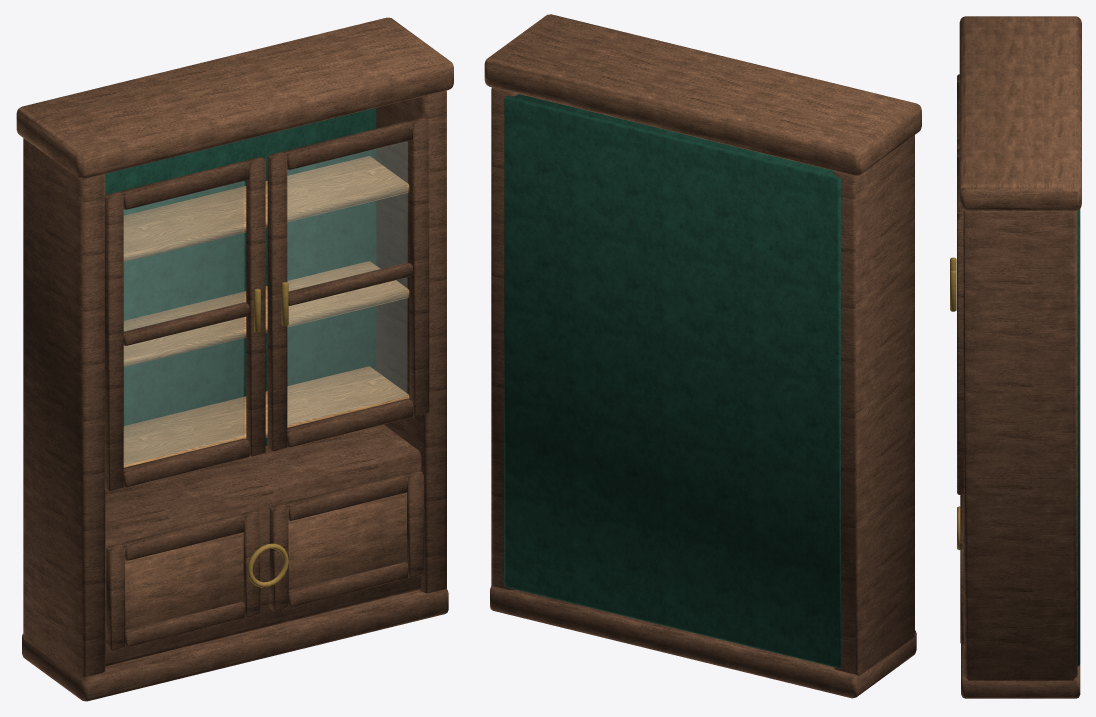
The model's file is asset_070_trophy_display_cabinet.glb.
3 views of the same model, side by side, from view 1: azimuth 30°, elevation 25°; view 2: azimuth 150°, elevation 25°; view 3: azimuth 270°, elevation 25° (orthographic). The views are drawn at different scales.
Visible parts, largest first — view 1: MESH_DisplayCabinetSideSet, MESH_DisplayCrown, MESH_DisplayBack, MESH_DisplayLowerDoorSet, MESH_DisplayDoorRightGlass, MESH_DisplayDoorLeftGlass, MESH_DisplayShelfSet, MESH_LowerStorageCarcass, MESH_DisplayDoorRightWoodFrame, MESH_DisplayDoorLeftWoodFrame, MESH_DisplayPlinth, MESH_DisplayCrest; view 2: MESH_DisplayBack, MESH_DisplayCabinetSideSet, MESH_DisplayCrown, MESH_DisplayPlinth; view 3: MESH_DisplayCabinetSideSet, MESH_DisplayCrown, MESH_DisplayPlinth, MESH_DisplayDoorRightWoodFrame, MESH_DisplayBack, MESH_DisplayLowerDoorSet, MESH_DisplayDoorPull2.
Boxes of the visible parts, <box> form: MESH_DisplayCabinetSideSet: <box>23,90,446,680</box>; MESH_DisplayCrown: <box>16,17,453,178</box>; MESH_DisplayBack: <box>105,108,376,445</box>; MESH_DisplayLowerDoorSet: <box>106,470,423,650</box>; MESH_DisplayDoorRightGlass: <box>287,141,407,424</box>; MESH_DisplayDoorLeftGlass: <box>124,181,243,464</box>; MESH_DisplayShelfSet: <box>123,156,409,467</box>; MESH_LowerStorageCarcass: <box>105,424,421,666</box>; MESH_DisplayDoorRightWoodFrame: <box>267,117,429,451</box>; MESH_DisplayDoorLeftWoodFrame: <box>104,157,265,491</box>; MESH_DisplayPlinth: <box>22,589,448,701</box>; MESH_DisplayCrest: <box>247,543,288,587</box>; MESH_DisplayBack: <box>504,94,840,667</box>; MESH_DisplayCabinetSideSet: <box>491,87,914,676</box>; MESH_DisplayCrown: <box>484,14,921,175</box>; MESH_DisplayPlinth: <box>490,585,916,698</box>; MESH_DisplayCabinetSideSet: <box>963,210,1077,680</box>; MESH_DisplayCrown: <box>959,16,1081,210</box>; MESH_DisplayPlinth: <box>961,644,1080,698</box>; MESH_DisplayDoorRightWoodFrame: <box>957,149,963,494</box>; MESH_DisplayBack: <box>1077,209,1080,666</box>; MESH_DisplayLowerDoorSet: <box>960,495,963,644</box>; MESH_DisplayDoorPull2: <box>950,270,956,311</box>.
Bounding box in the file's own units: 1.5 × 2.1 × 0.485.
Materials: 8 (5 with a texture image).
